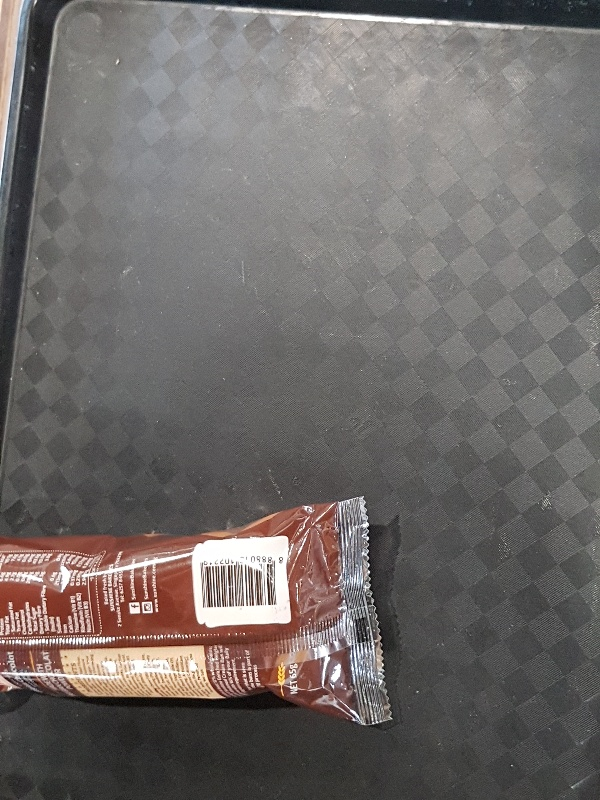Sunshine Belgium Chocolate Wholemeal Cream Bun: (1, 494, 394, 729)
